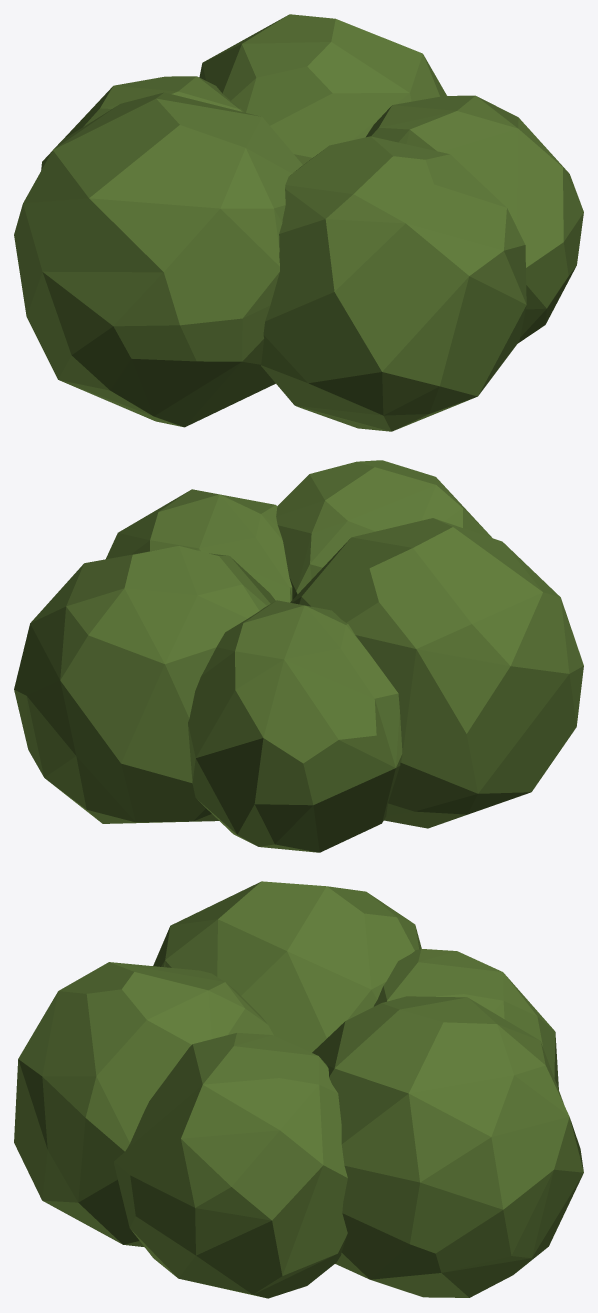
The model's file is Bush_2_2.fbx.
The picture shows the model from 3 angles, top to bottom: view 1: azimuth 30°, elevation 25°; view 2: azimuth 150°, elevation 25°; view 3: azimuth 270°, elevation 25°; orthographic projection. The views are drawn at different scales.
Visible parts, largest first — view 1: Bush_2_2; view 2: Bush_2_2; view 3: Bush_2_2.
Part boxes in pixels (x1,y1,x2,y2): Bush_2_2: [14, 14, 583, 431]; Bush_2_2: [14, 460, 583, 852]; Bush_2_2: [14, 881, 583, 1298].
Size of the model in its own units: 93.32 by 53.3 by 92.47.
